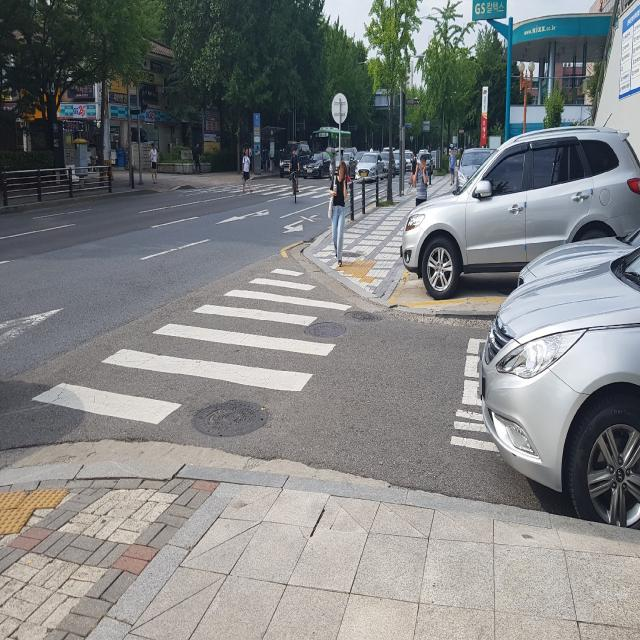횡단보도: (31, 266, 352, 428), (190, 177, 380, 210)
